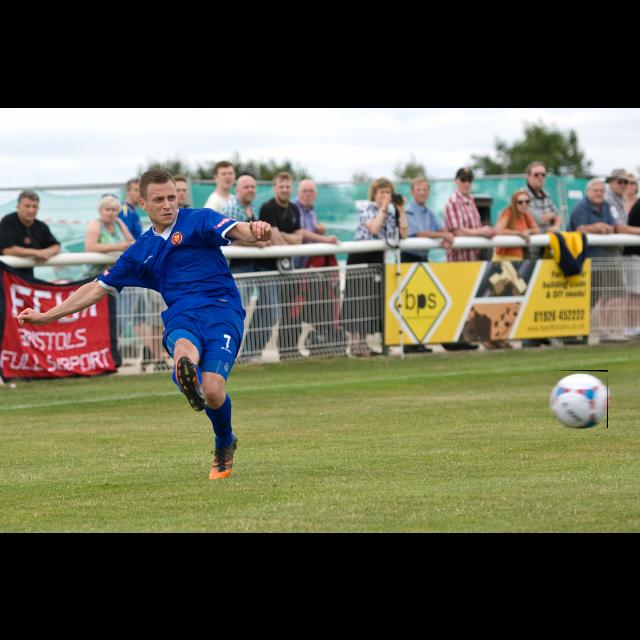Football: (548, 370, 608, 428)
